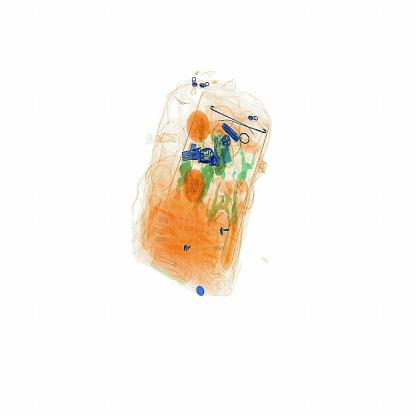pliers: (183, 131, 201, 160)
